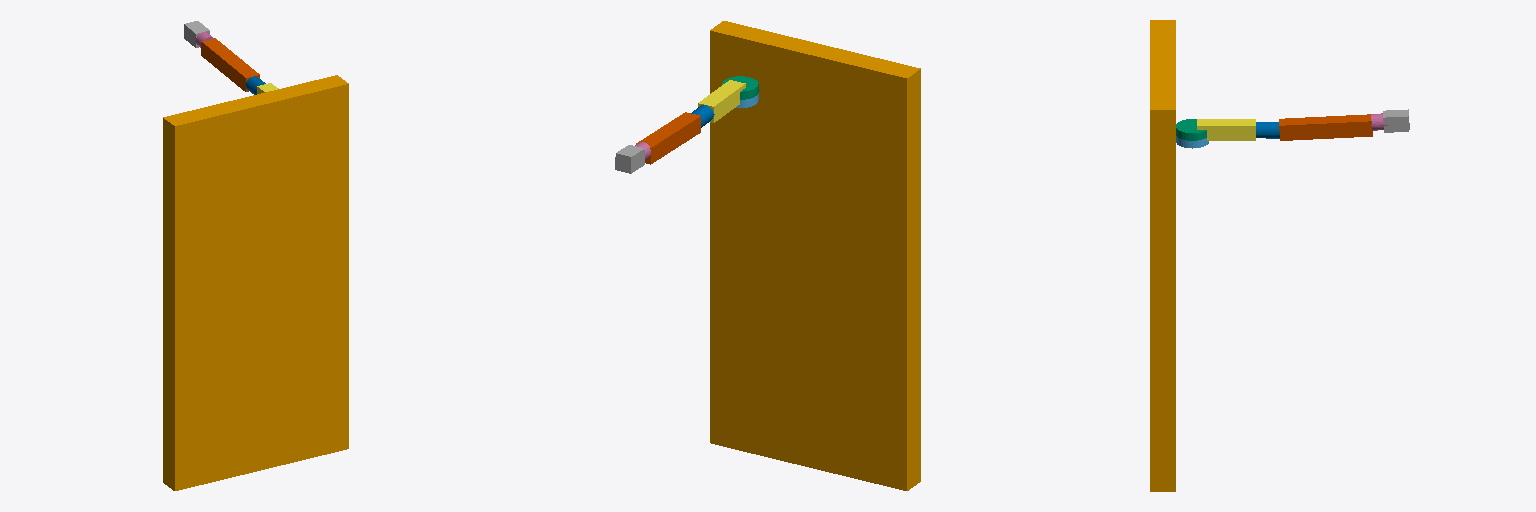
URDF robot description (simpleArm):
<?xml version="1.0"?>
<!-- BOTTOM FIXED LINK 
This link is the base of the arm in which arm is placed 
-->
<robot name="simpleArm">

<joint name="bottom_joint2" type="fixed">
    <origin xyz="0.15 0.07 0.38" rpy="0 0 0" />
    <parent link="base_link"/>
    <child link="base_link_2"/>
</joint>


<!-- BASE LINK -->
  <link name="base_link">

    <visual>
      <origin xyz="0 0 0" rpy="0 0 0" /> <!-- rotate PI/2 -->
      <geometry>
	        <box size="0.5 0.06 1" />
      </geometry>
    </visual>

</link>

<!-- BASE LINK -->
  <link name="base_link_2">

    <visual>
      <origin xyz="0 0 0" rpy="0 0 0" /> 
      <geometry>
          <cylinder radius="0.04" length="0.02"/>
      </geometry>
    </visual>

</link>

<joint name="shoulder_pan_joint" type="revolute">
    <parent link="base_link_2"/>
    <child link="shoulder_pan_link"/>
    <origin xyz="0 0 0.02" rpy="0 0 -1.573" />
    <axis xyz="0 0 1" />
    <limit effort="300" velocity="1" lower="-2.61799387799" upper="1.98394848567"/>
    <dynamics damping="50" friction="1"/>
</joint>

<!-- SHOULDER PAN LINK -->
  <link name="shoulder_pan_link" >

    <visual>
      <origin xyz="0 0 0" rpy="0 0 0" />
      <geometry>

            <cylinder radius="0.04" length="0.02"/>

      </geometry>
    </visual>

</link>

  <joint name="shoulder_pitch_joint" type="revolute">
    <parent link="shoulder_pan_link"/>
    <child link="shoulder_pitch_link"/>
    <origin xyz="-0.041 0.0021 0.0" rpy="-1.573 0 1.573" />
    <axis xyz="1 0 0" />
    <limit effort="300" velocity="1" lower="-1.19962513147" upper="1.89994105047" />
    <dynamics damping="50" friction="1"/>
</joint>

<!-- SHOULDER PITCH LINK -->
  <link name="shoulder_pitch_link" >

    <visual>
      <origin xyz="-0.002 0 0.04" rpy="0 1.573 0" />
      <geometry>

           <box size="0.14 0.04 0.04" />

      </geometry>
    </visual>

</link>

 <joint name="elbow_roll_joint" type="revolute">
    <parent link="shoulder_pitch_link"/>
    <child link="elbow_roll_link"/>
    <origin xyz="-0.002 0 0.1206" rpy="3.146 1.573 0" />
    <axis xyz="-1 0 0" />
    <limit effort="300" velocity="1" lower="-2.61799387799" upper="0.705631162427" />
    <dynamics damping="50" friction="1"/>
</joint>

<!-- ELBOW ROLL LINK -->
  <link name="elbow_roll_link" >

    <visual>
      <origin xyz="-0.015 0.0 -0.0" rpy="0 1.573 0" />
      <geometry>

            <cylinder radius= "0.02" length="0.06"/>

      </geometry>
    </visual>

</link>

<joint name="elbow_pitch_joint" type="revolute">
    <parent link="elbow_roll_link"/>
    <child link="elbow_pitch_link"/>
    <origin xyz="-0.035 0 0.0" rpy="0.055 1.573 0" />
    <axis xyz="1 0 0" />
    <limit effort="300" velocity="1" lower="-1.5953400194" upper="1.93281579274" />
    <dynamics damping="50" friction="1"/>
</joint>

<!-- ELBOW PITCH LINK -->
  <link name="elbow_pitch_link" >

    <visual>
      <origin xyz="0 0 -0.12" rpy="0 1.573 0" />
      <geometry>

       <box size="0.22 0.04 0.04" />
  
      </geometry>
    </visual>

</link>

<joint name="wrist_roll_joint" type="revolute">
    <parent link="elbow_pitch_link"/>
    <child link="wrist_roll_link"/>
    <origin xyz="0.0 0.0081 -.248" rpy="0 1.573 3.146" />
    <axis xyz="1 0 0" />
    <limit effort="300" velocity="1" lower="-2.61799387799" upper="2.6128806087" />
    <dynamics damping="50" friction="1"/>
</joint>

<link name="wrist_roll_link" >
    <visual>
      <origin xyz="0 0 0" rpy="0 1.573 0" />
      <geometry>
           <cylinder radius="0.02" length="0.04"/>
      </geometry>
    </visual>

</link>

<joint name="wrist_pitch_joint" type="revolute">
    <parent link="wrist_roll_link"/>
    <child link="wrist_pitch_link"/>
    <origin xyz="0.0 0.0 0.0001" rpy="0 1.573 0" />
    <axis xyz="1 0 0" />
    <limit effort="300" velocity="1" lower="-1.5953400194" upper="1.98394848567" />
    <dynamics damping="50" friction="1"/>
</joint>


<!-- WRIST PITCH LINK -->
  <link name="wrist_pitch_link">

    <visual>
      <origin xyz="0 0 0.04" rpy="0 1.573 0" />
      <geometry>

           <box size="0.06 0.04 0.04" />
  
      </geometry>
    </visual>

</link>


</robot>

--- Render facts (derived) ---
3 views of the same robot in one strip: view 1: azimuth 30°, elevation 25°; view 2: azimuth 150°, elevation 25°; view 3: azimuth 270°, elevation 25° (orthographic).
Robot: simpleArm — 8 links, 7 joints (6 revolute, 1 fixed); root link base_link; default pose: every joint at zero.
Visible links, largest first — view 1: base_link, elbow_pitch_link; view 2: base_link, elbow_pitch_link, shoulder_pitch_link, wrist_pitch_link; view 3: base_link, elbow_pitch_link, shoulder_pitch_link, wrist_pitch_link.
Link boxes in pixels (x1,y1,x2,y2): base_link: [163, 75, 348, 490]; elbow_pitch_link: [201, 38, 259, 91]; base_link: [710, 21, 920, 490]; elbow_pitch_link: [636, 112, 700, 164]; shoulder_pitch_link: [698, 80, 745, 122]; wrist_pitch_link: [615, 145, 644, 173]; base_link: [1150, 20, 1175, 491]; elbow_pitch_link: [1279, 114, 1372, 140]; shoulder_pitch_link: [1197, 119, 1255, 140]; wrist_pitch_link: [1383, 109, 1409, 132].
Size in the robot's own frame: 0.5 by 0.6149 by 1 metres.
Geometry: primitives only (box / cylinder / sphere), no mesh files.